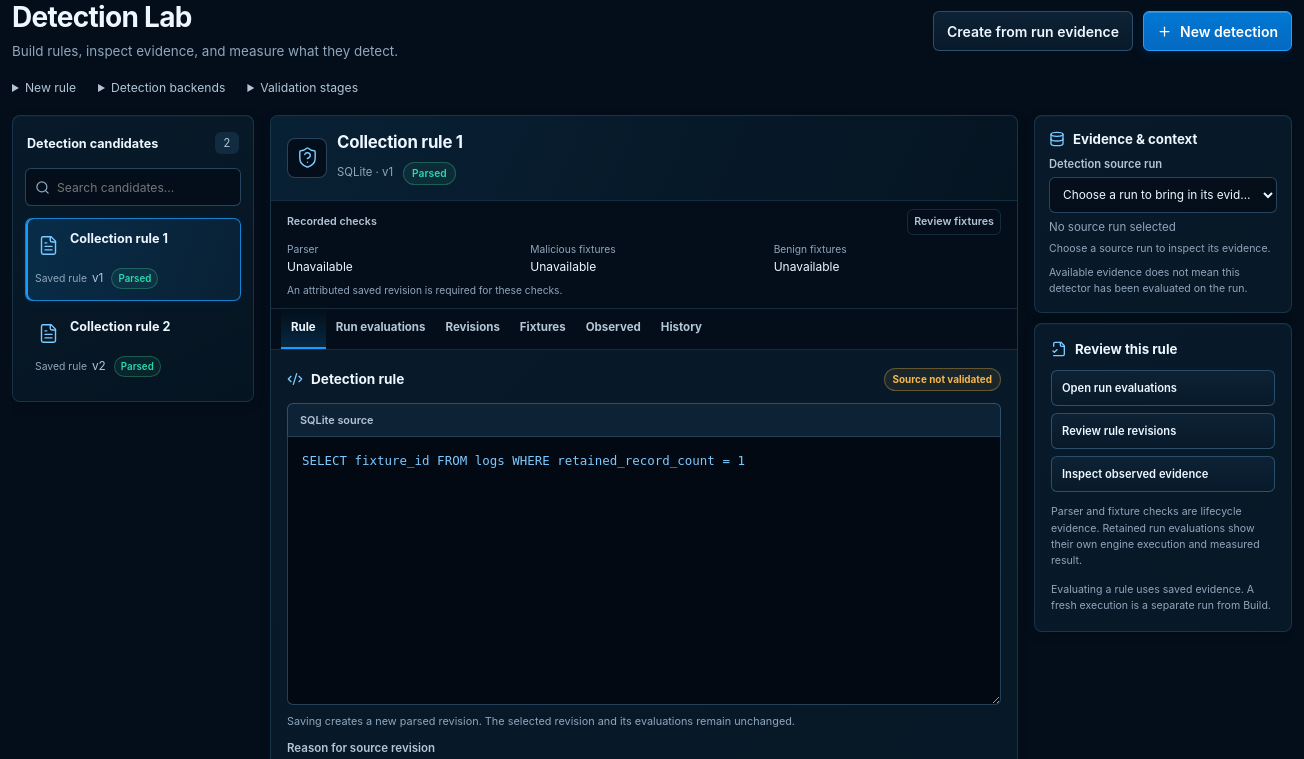
Test case: does not substitute unbound source for no source records
Click the tab "Revisions": [473, 329] box [436,309,510,349]
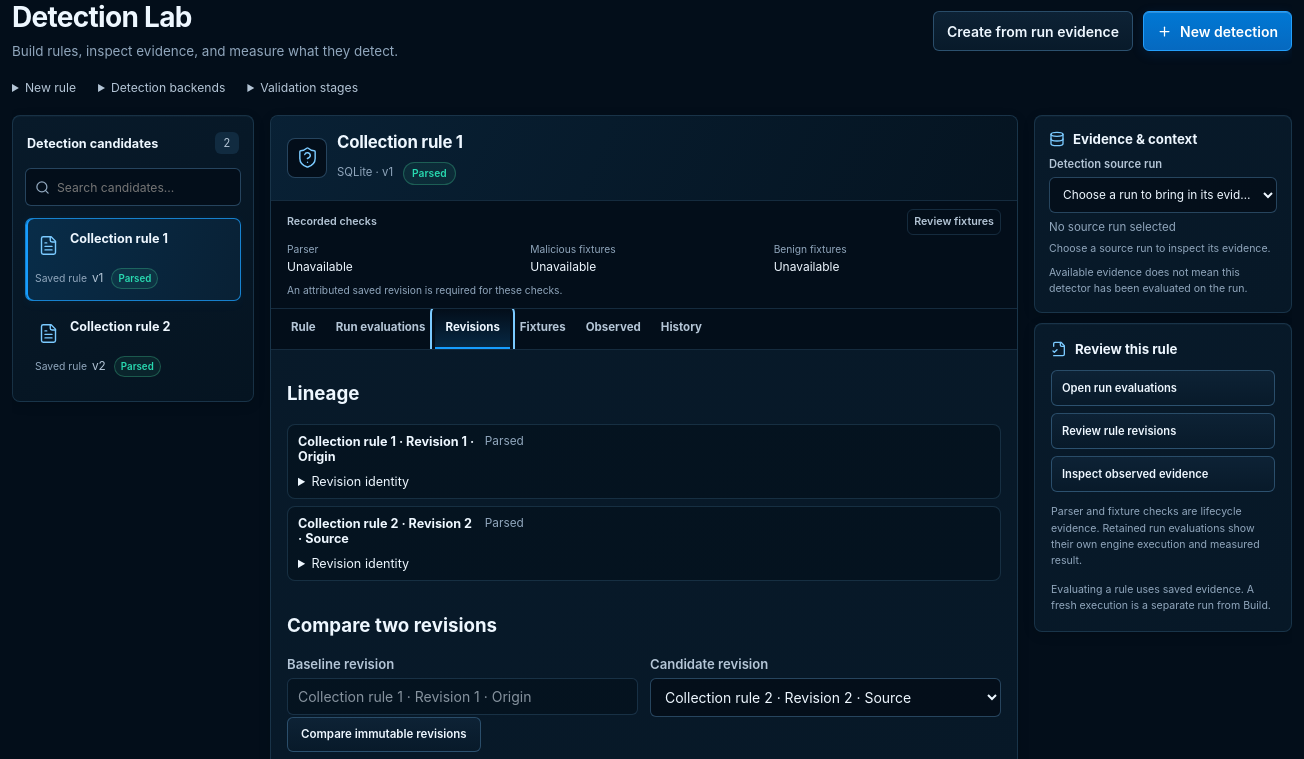
Click the button "Compare immutable revisions": [384, 734] box [287,717,481,752]
(page scrolled)
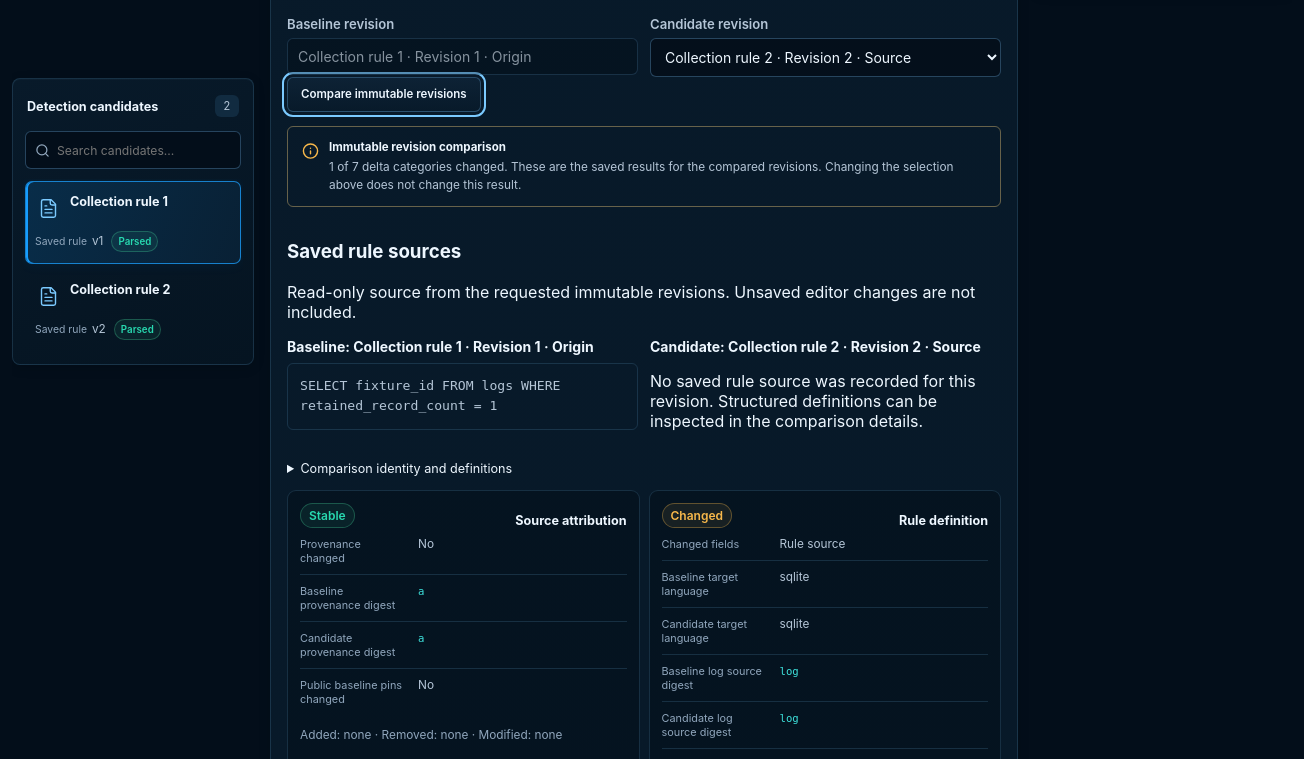
Result: the text "No saved rule source was recorded" is shown at [650,371,976,431]
